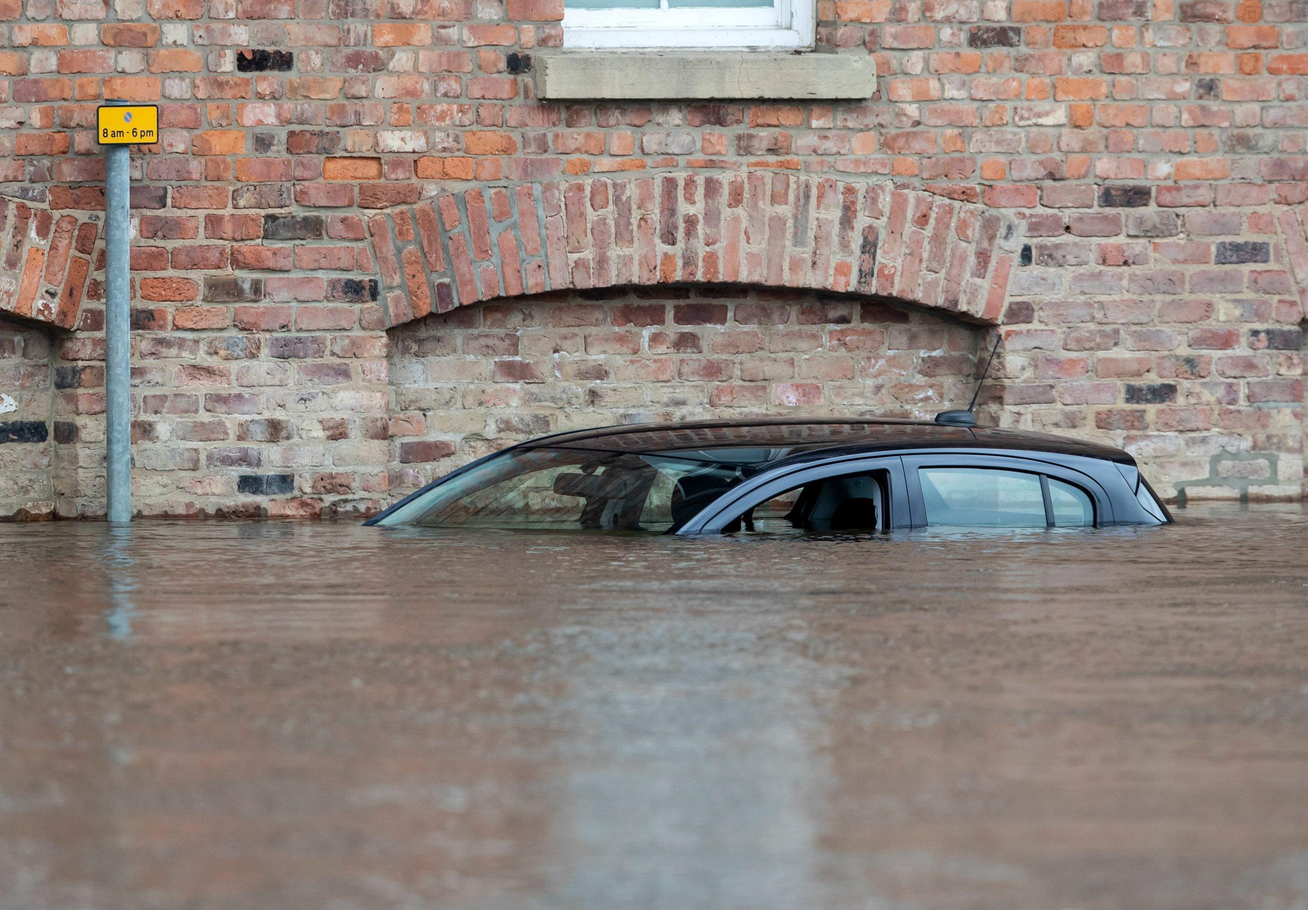water: (0, 507, 1305, 909)
